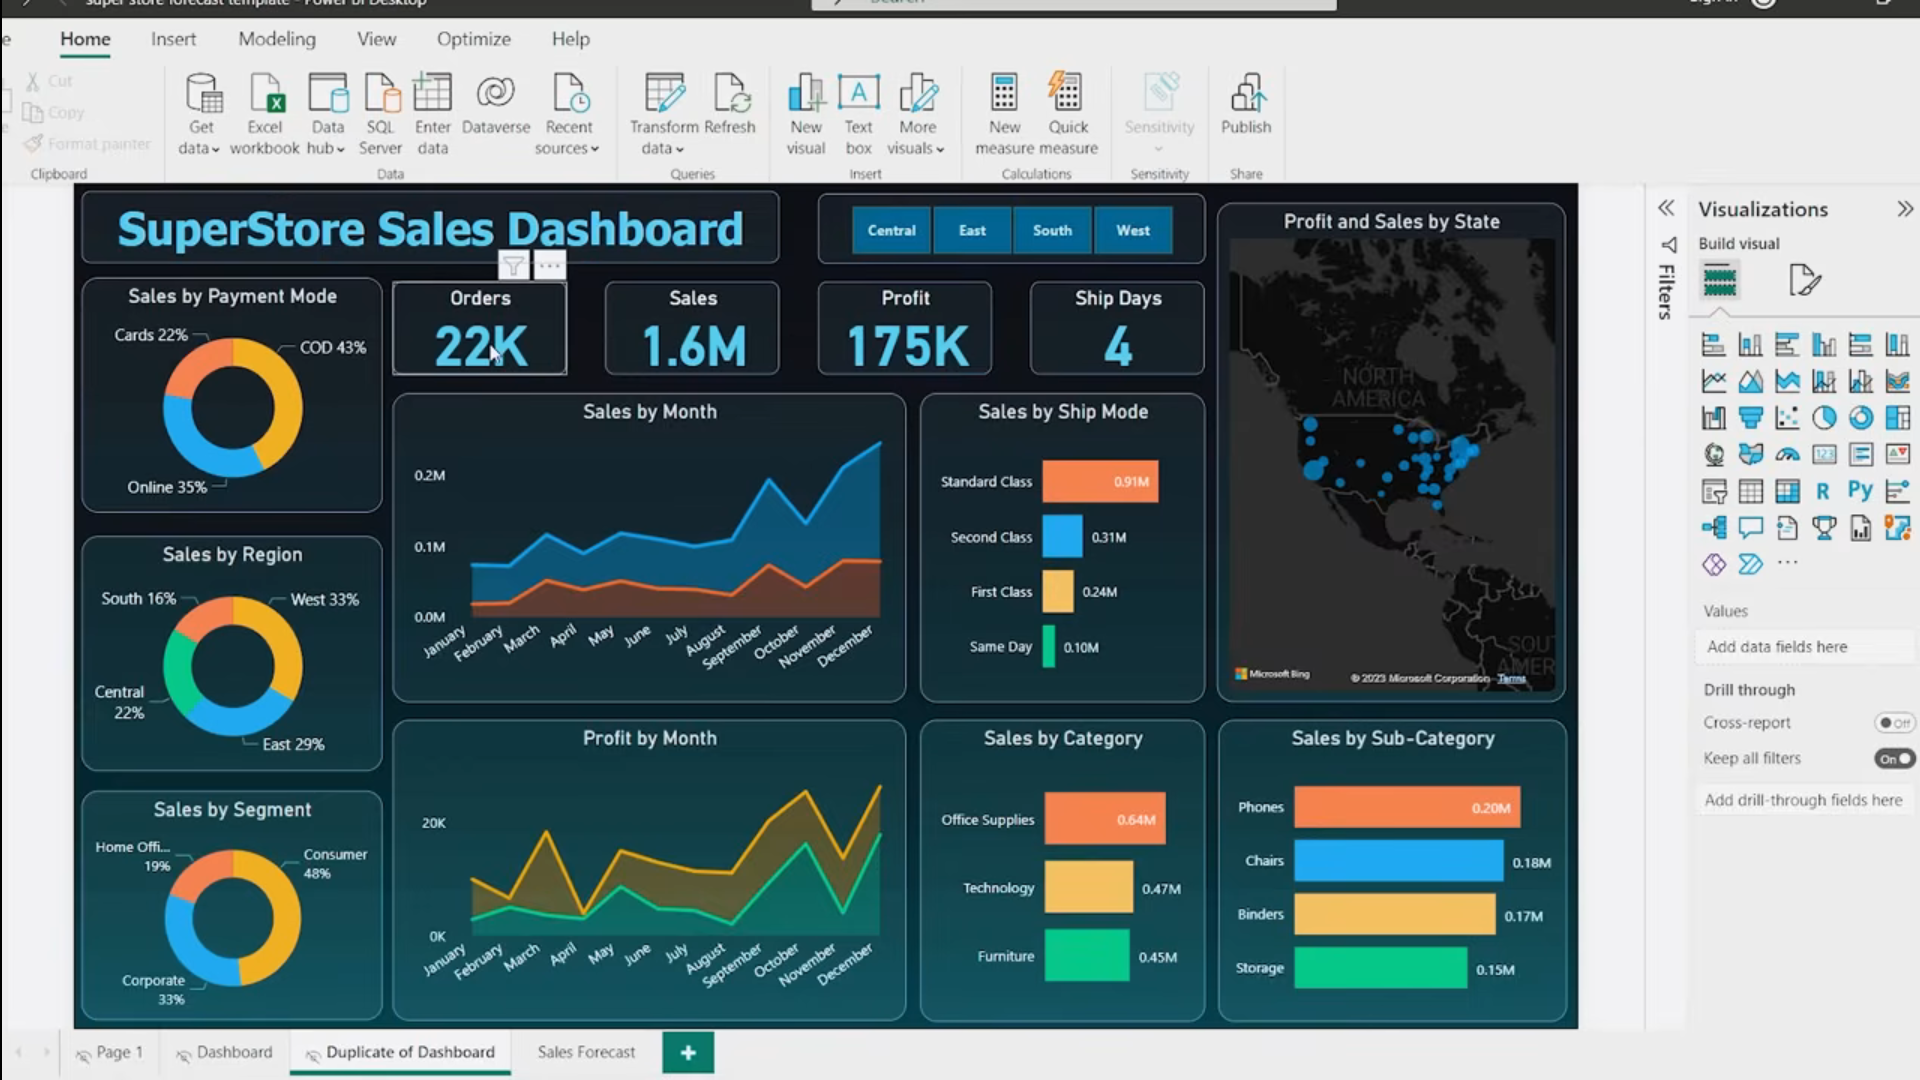

This screenshot's page, from the dashboard's own definition file:
{"tool":"powerbi","page":{"name":"Dashboard","canvas":[1280,720],"ordinal":0},"visuals":[{"type":"slicer","fields":{"Values":["SuperStore_Sales_Dataset.Region"]},"box":[581.3,27.4,345.4,49.6],"z":1000},{"type":"map","fields":{"Size":["Sum(SuperStore_Sales_Dataset.Profit)"],"Category":["SuperStore_Sales_Dataset.State"]},"box":[942.1,27.5,337.4,416],"z":2000},{"type":"donutChart","fields":{"Y":["Sum(SuperStore_Sales_Dataset.Sales)"],"Category":["SuperStore_Sales_Dataset.Payment Mode"]},"box":[18.8,101.1,263.3,201.7],"z":2001},{"type":"donutChart","fields":{"Category":["SuperStore_Sales_Dataset.Segment"],"Y":["Sum(SuperStore_Sales_Dataset.Sales)"]},"box":[18.8,509.5,263.3,201.7],"z":2003},{"type":"donutChart","fields":{"Y":["Sum(SuperStore_Sales_Dataset.Sales)"],"Category":["SuperStore_Sales_Dataset.Region"]},"box":[18.8,302.8,263.3,201],"z":2004},{"type":"cardVisual","fields":{"Data":["Sum(SuperStore_Sales_Dataset.Sales)"]},"box":[480.4,100.9,141.9,100.9],"z":2006},{"type":"cardVisual","fields":{"Data":["Sum(SuperStore_Sales_Dataset.Sales)"]},"box":[327.7,100.8,142,100.8],"z":2007},{"type":"cardVisual","fields":{"Rows":["SuperStore_Sales_Dataset.Ship Date.Variation.Date Hierarchy.Day"]},"box":[784.1,100.8,142,100.8],"z":2008},{"type":"cardVisual","fields":{"Data":["Sum(SuperStore_Sales_Dataset.Profit)"]},"box":[622.3,100.9,148.7,100.9],"z":2009},{"type":"stackedAreaChart","fields":{"Category":["SuperStore_Sales_Dataset.Order Date.Variation.Date Hierarchy.Month"],"Y":["Sum(SuperStore_Sales_Dataset.Sales)"]},"box":[330,224,331.7,201.7],"z":2010},{"type":"barChart","fields":{"Category":["SuperStore_Sales_Dataset.Ship Mode"],"Y":["Sum(SuperStore_Sales_Dataset.Sales)"]},"box":[661.7,224,265,201.7],"z":2011},{"type":"barChart","fields":{"Category":["SuperStore_Sales_Dataset.Category"],"Y":["Sum(SuperStore_Sales_Dataset.Sales)"]},"box":[661.7,465,265,201.7],"z":2012},{"type":"stackedAreaChart","fields":{"Category":["SuperStore_Sales_Dataset.Order Date.Variation.Date Hierarchy.Month"],"Y":["Sum(SuperStore_Sales_Dataset.Profit)"]},"box":[328.3,465,331.7,201.7],"z":2013},{"type":"barChart","fields":{"Category":["SuperStore_Sales_Dataset.Sub-Category"],"Y":["Sum(SuperStore_Sales_Dataset.Sales)"]},"box":[942.1,465,336.8,201.7],"z":2014},{"type":"textbox","box":[28.3,25.4,553.4,50.7],"z":2015}]}

Visuals, with their boxes on the page's 1280x720 design canvas (x1, y1, x2, y2). These are canvas units, not pixel positions in the 1920x1080 screenshot, which may show the page scaled, cropped or inside an application window:
slicer - SuperStore_Sales_Dataset.Region: BBox(581, 27, 927, 77)
map - Sum(SuperStore_Sales_Dataset.Profit) x SuperStore_Sales_Dataset.State: BBox(942, 28, 1280, 444)
donutChart - Sum(SuperStore_Sales_Dataset.Sales) x SuperStore_Sales_Dataset.Payment Mode: BBox(19, 101, 282, 303)
donutChart - SuperStore_Sales_Dataset.Segment x Sum(SuperStore_Sales_Dataset.Sales): BBox(19, 510, 282, 711)
donutChart - Sum(SuperStore_Sales_Dataset.Sales) x SuperStore_Sales_Dataset.Region: BBox(19, 303, 282, 504)
cardVisual - Sum(SuperStore_Sales_Dataset.Sales): BBox(480, 101, 622, 202)
cardVisual - Sum(SuperStore_Sales_Dataset.Sales): BBox(328, 101, 470, 202)
cardVisual - SuperStore_Sales_Dataset.Ship Date.Variation.Date Hierarchy.Day: BBox(784, 101, 926, 202)
cardVisual - Sum(SuperStore_Sales_Dataset.Profit): BBox(622, 101, 771, 202)
stackedAreaChart - SuperStore_Sales_Dataset.Order Date.Variation.Date Hierarchy.Month x Sum(SuperStore_Sales_Dataset.Sales): BBox(330, 224, 662, 426)
barChart - SuperStore_Sales_Dataset.Ship Mode x Sum(SuperStore_Sales_Dataset.Sales): BBox(662, 224, 927, 426)
barChart - SuperStore_Sales_Dataset.Category x Sum(SuperStore_Sales_Dataset.Sales): BBox(662, 465, 927, 667)
stackedAreaChart - SuperStore_Sales_Dataset.Order Date.Variation.Date Hierarchy.Month x Sum(SuperStore_Sales_Dataset.Profit): BBox(328, 465, 660, 667)
barChart - SuperStore_Sales_Dataset.Sub-Category x Sum(SuperStore_Sales_Dataset.Sales): BBox(942, 465, 1279, 667)
textbox: BBox(28, 25, 582, 76)
